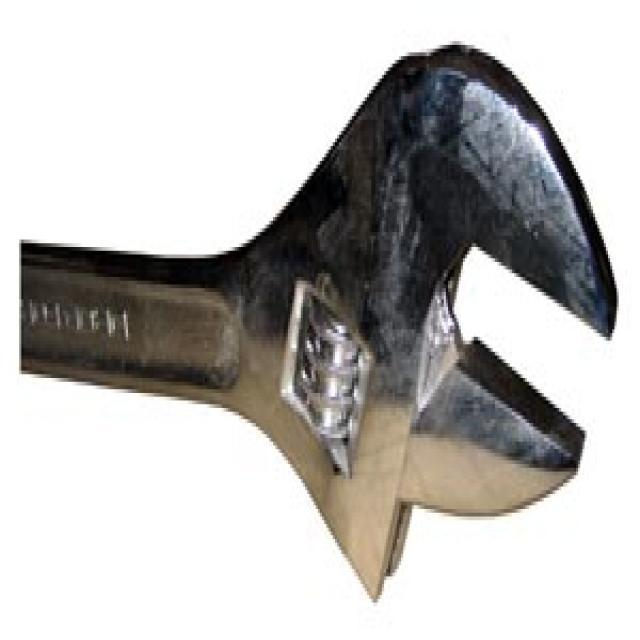wrench: (18, 29, 622, 615)
